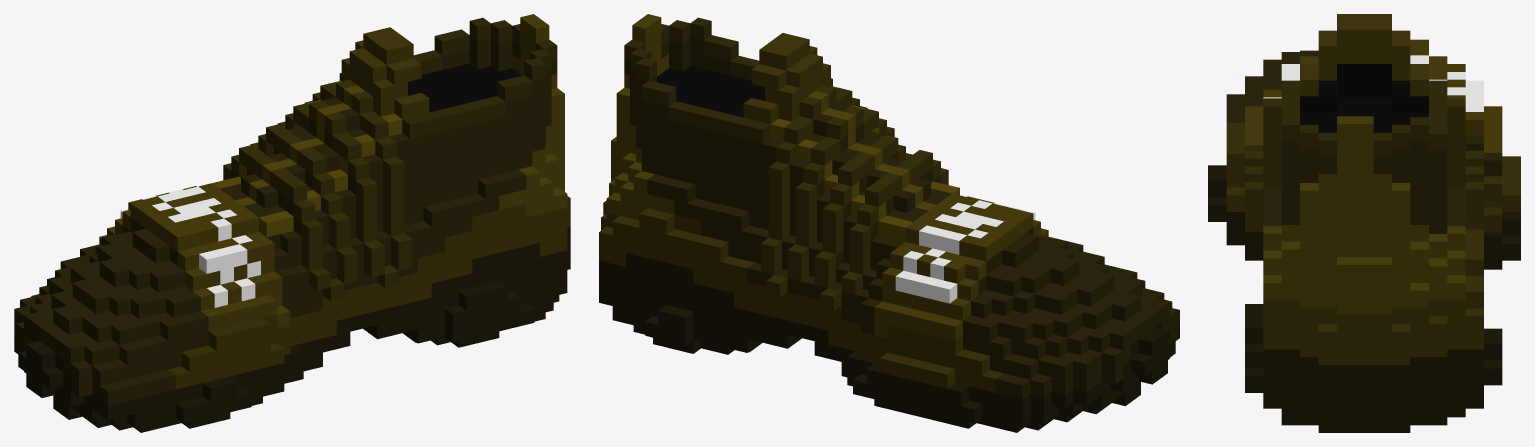
Rendered from Olive Love.fbx.
3 renders of one model, left to right at view 1: azimuth 30°, elevation 25°; view 2: azimuth 150°, elevation 25°; view 3: azimuth 270°, elevation 25°, orthographic. The views are drawn at different scales.
Visible parts, largest first — view 1: Untitled; view 2: Untitled; view 3: Untitled.
Boxes of the visible parts, left/top/right/bottom form: Untitled: left=14, top=14, right=570, bottom=432; Untitled: left=599, top=14, right=1179, bottom=432; Untitled: left=1208, top=14, right=1520, bottom=432.
Size of the model in its own units: 390 by 200 by 170.
